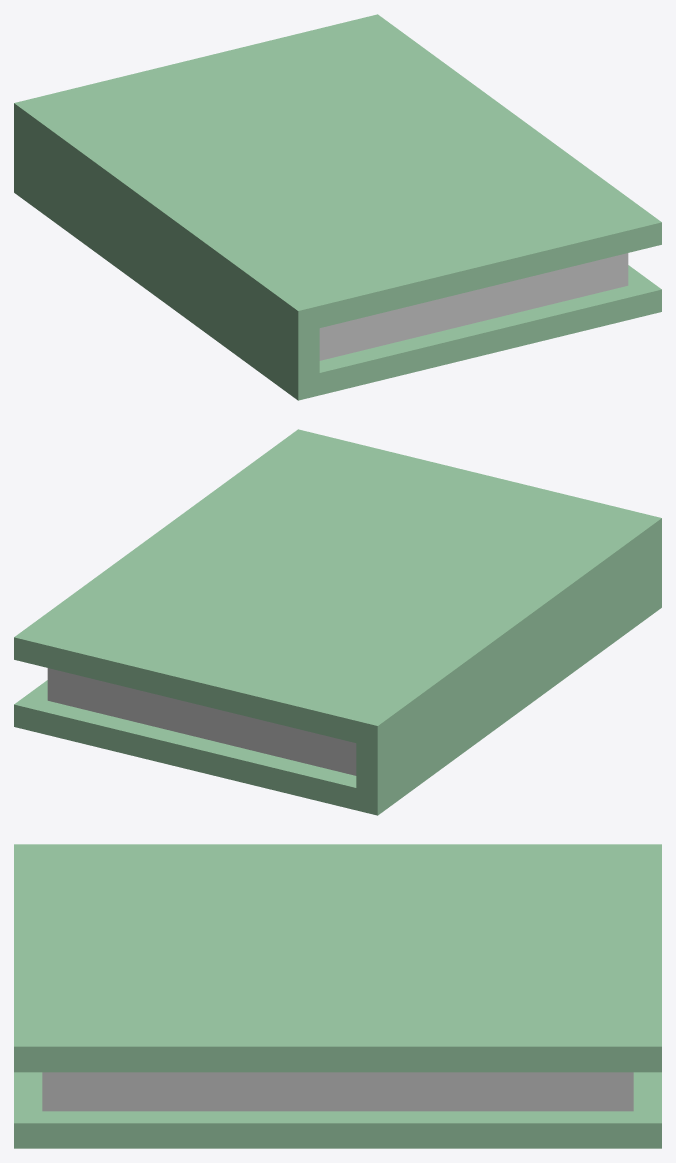
Rendered from Book.fbx.
3 views of the same model, one above another, from view 1: azimuth 30°, elevation 25°; view 2: azimuth 150°, elevation 25°; view 3: azimuth 270°, elevation 25° (orthographic). The views are drawn at different scales.
Visible parts, largest first — view 1: Book; view 2: Book; view 3: Book.
Part boxes in pixels (x1,y1,x2,y2): Book: [14, 14, 661, 400]; Book: [14, 429, 661, 815]; Book: [14, 844, 661, 1148].
Bounding box in the file's own units: 170 × 40 × 230.
